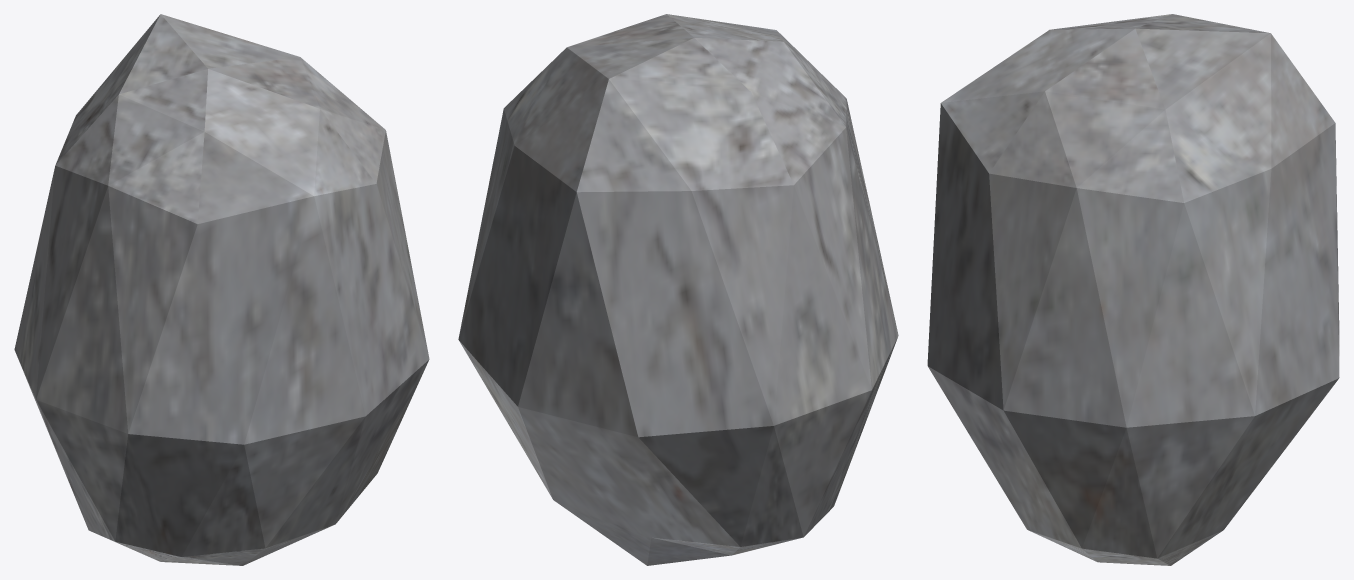
File: mg_12_crystal_3.fbx
3 renders of one model, left to right at view 1: azimuth 30°, elevation 25°; view 2: azimuth 150°, elevation 25°; view 3: azimuth 270°, elevation 25°, orthographic. The views are drawn at different scales.
Parts seen in each view (by area): view 1: mg_12_crystal_3; view 2: mg_12_crystal_3; view 3: mg_12_crystal_3.
Part boxes in pixels (bbox=[...]): mg_12_crystal_3: bbox=[14, 14, 429, 565]; mg_12_crystal_3: bbox=[458, 14, 898, 565]; mg_12_crystal_3: bbox=[927, 14, 1339, 565].
Bounding box in the file's own units: 12.56 × 16.31 × 11.55.
